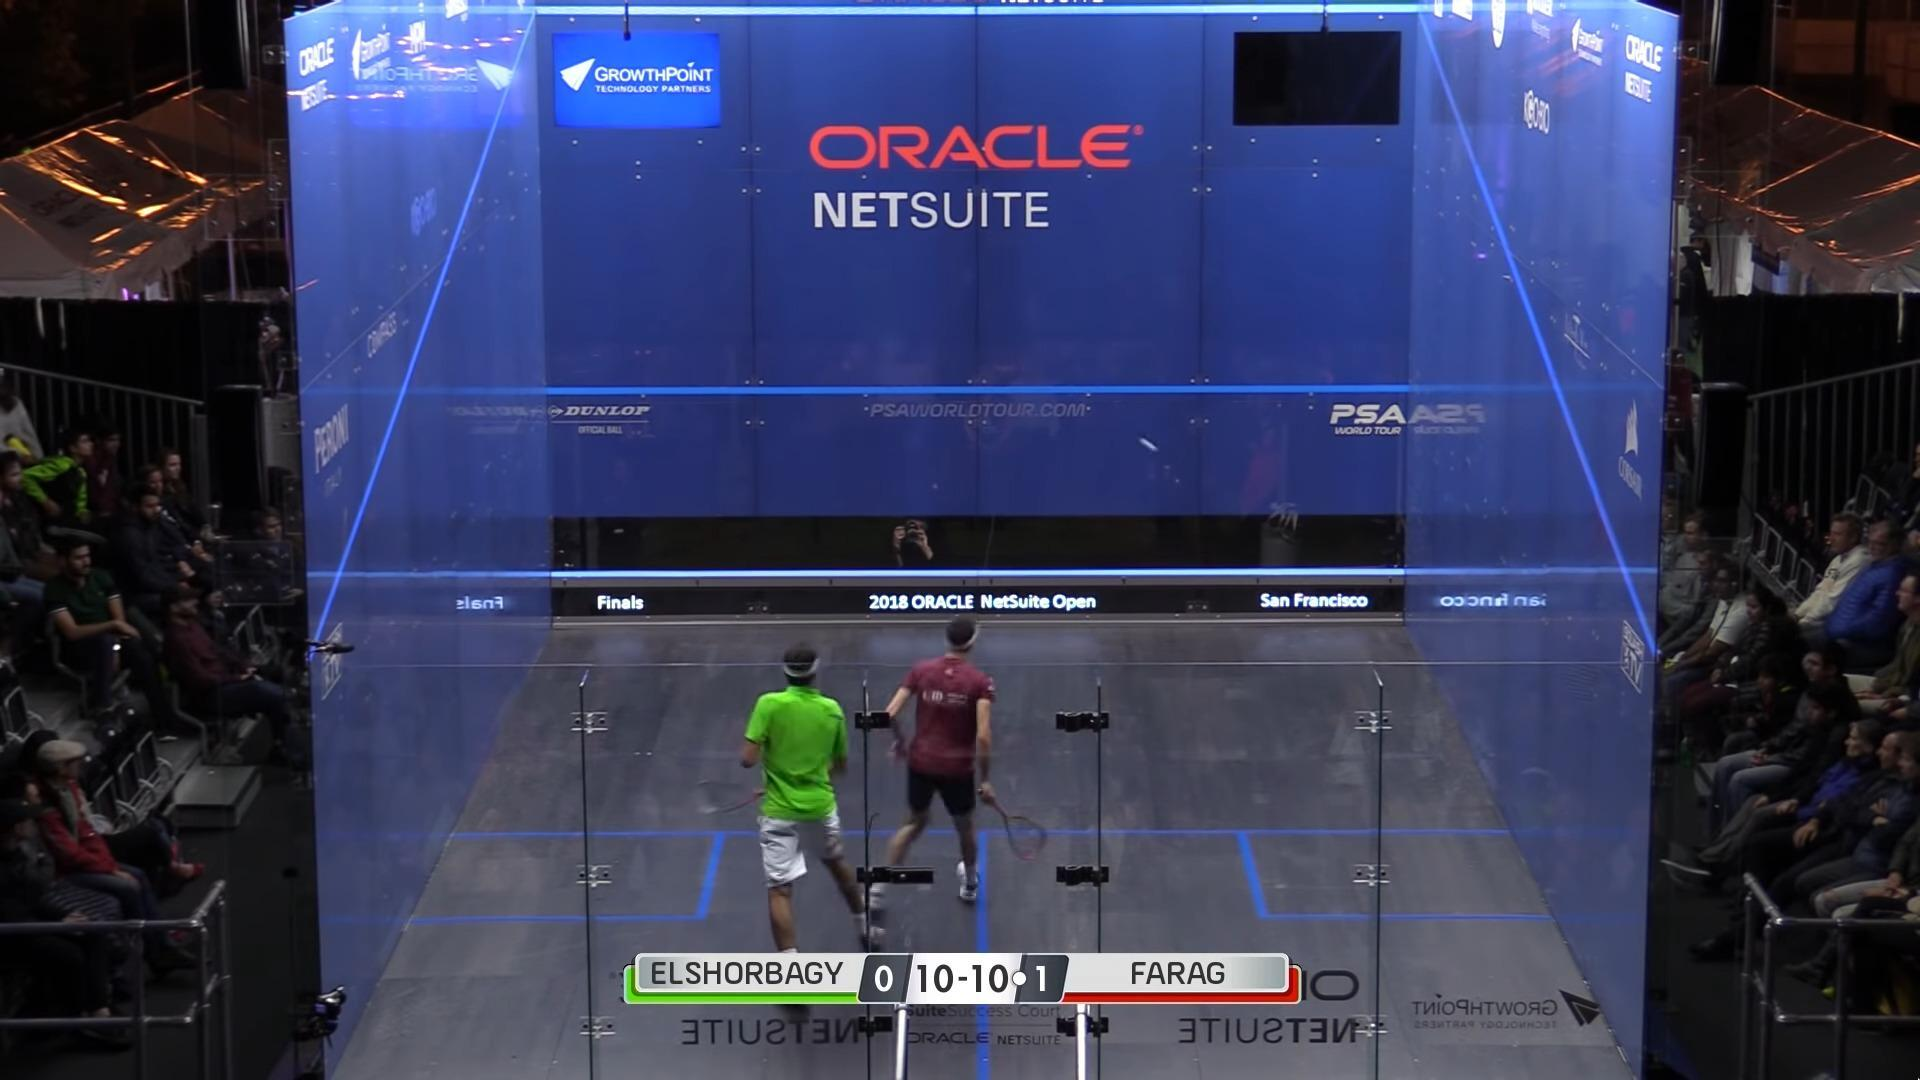Squash-Ball: (1124, 430, 1178, 468)
